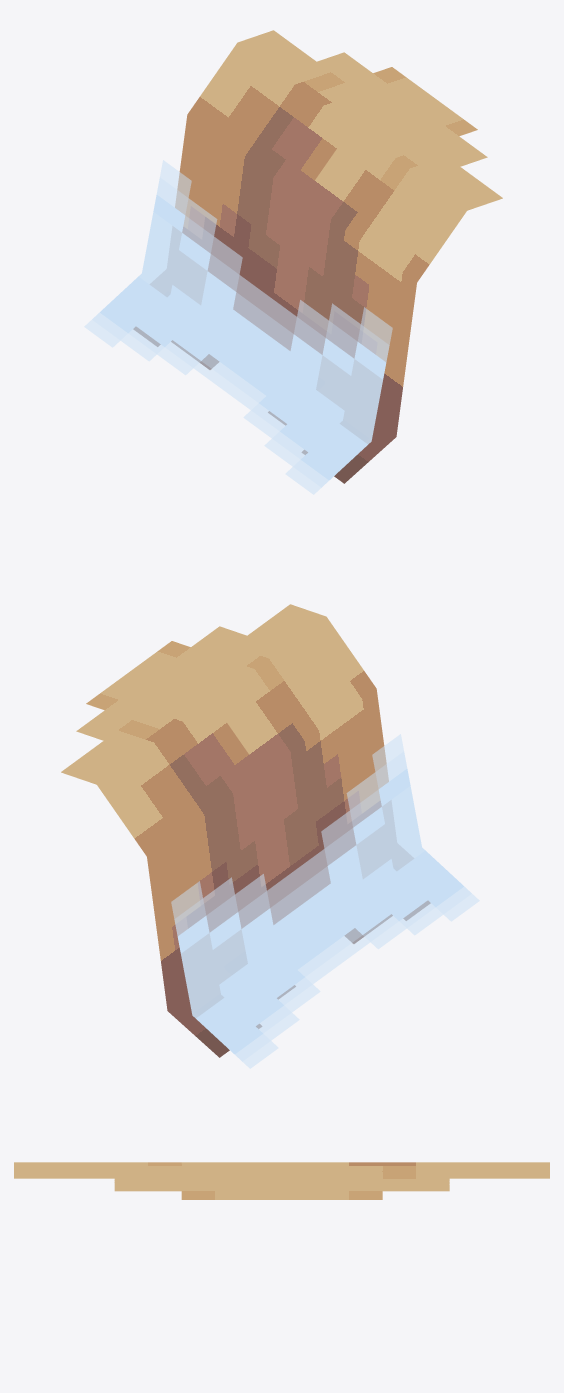
3 renders of one model, top to bottom at view 1: azimuth 30°, elevation 25°; view 2: azimuth 150°, elevation 25°; view 3: azimuth 270°, elevation 25°, orthographic. The views are drawn at different scales.
Bounding box in the file's own units: 0.7695 × 0.7266 × 1.
Materials: 4 (4 with a texture image).
